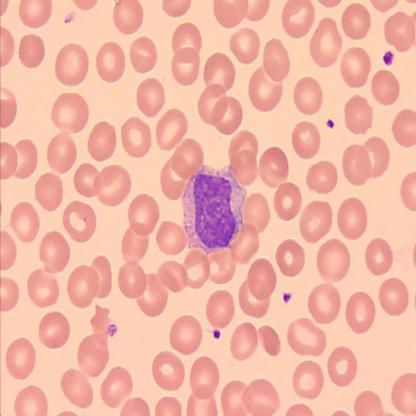Metamyelocyte: (178, 158, 249, 256)
